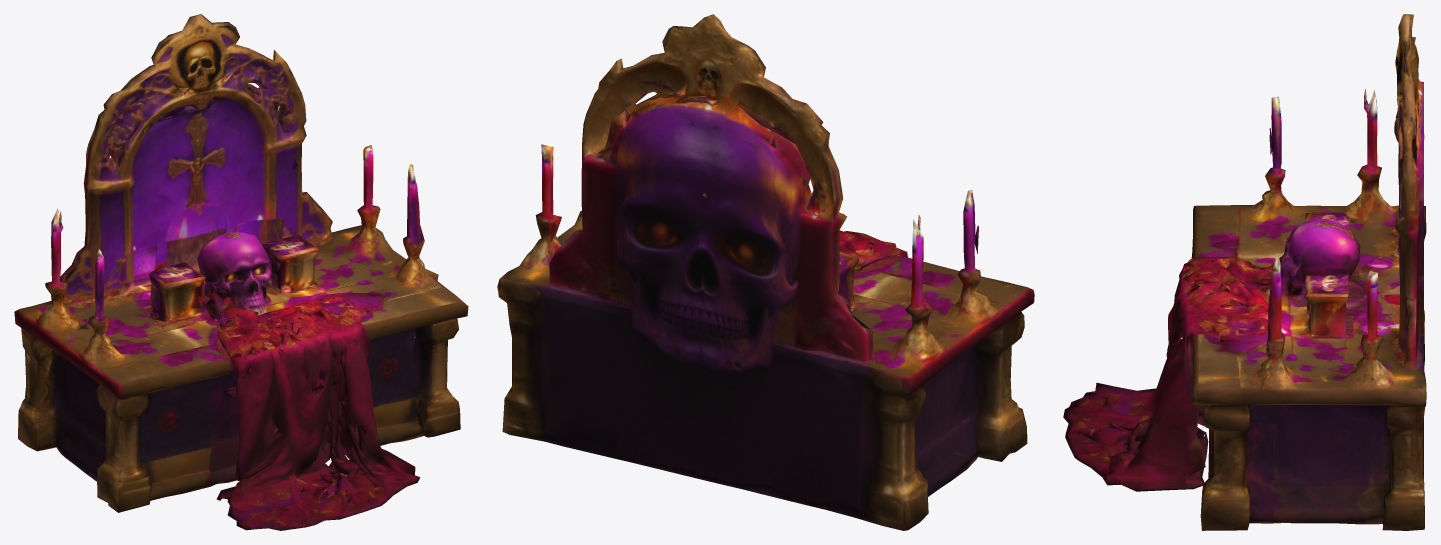
File: altar_black_magic__0613140138_texture.fbx
3 renders of one model, left to right at view 1: azimuth 30°, elevation 25°; view 2: azimuth 150°, elevation 25°; view 3: azimuth 270°, elevation 25°, orthographic. The views are drawn at different scales.
Parts seen in each view (by area): view 1: Mesh_0.005; view 2: Mesh_0.005; view 3: Mesh_0.005.
Boxes of the visible parts, x1=… form: Mesh_0.005: x1=14, y1=14, x2=468, y2=530; Mesh_0.005: x1=497, y1=14, x2=1034, y2=530; Mesh_0.005: x1=1063, y1=14, x2=1426, y2=530.
Bounding box in the file's own units: 182 × 192 × 148.
Materials: 1 (1 with a texture image).
